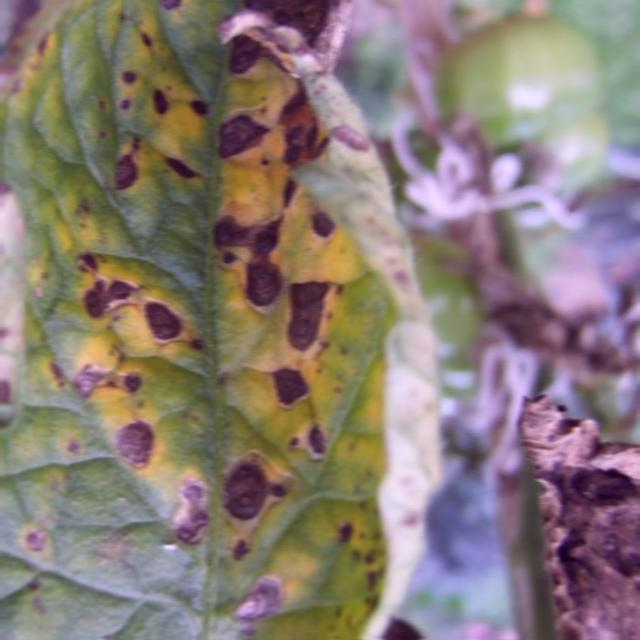Tomato Early blight leaf: (0, 0, 401, 640)
